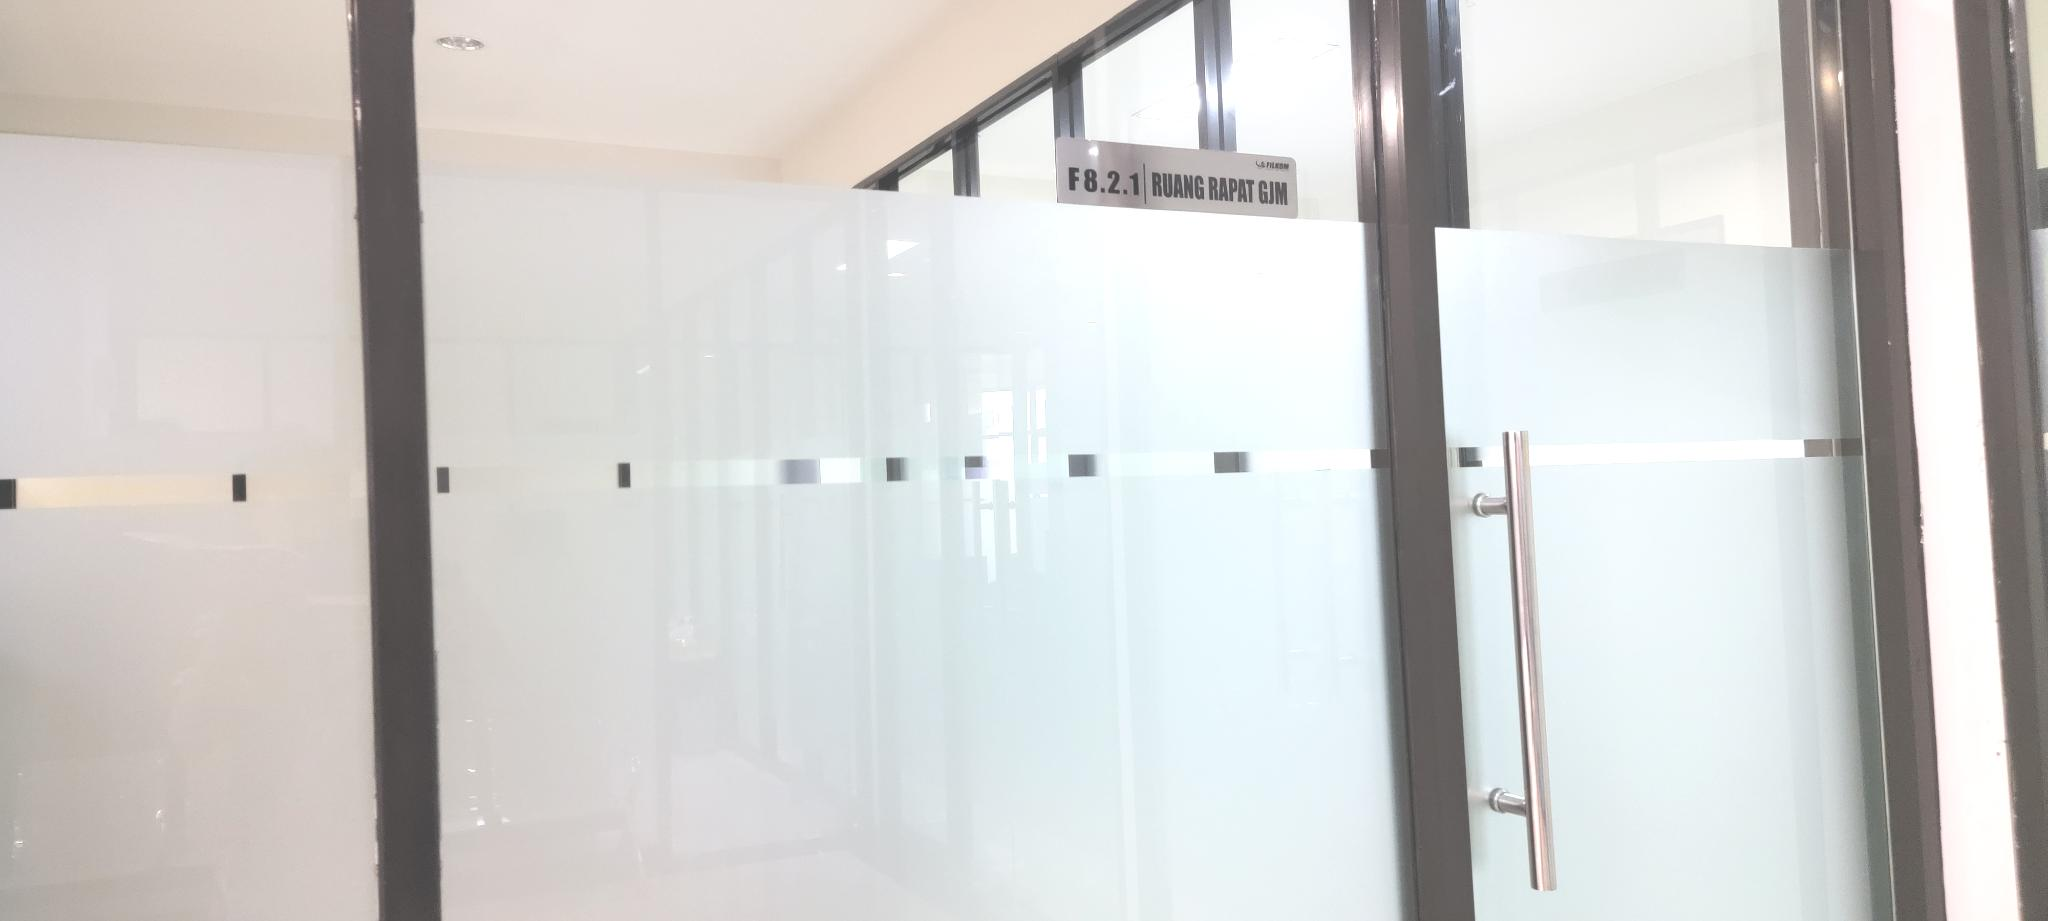plate: (1053, 135, 1300, 218)
